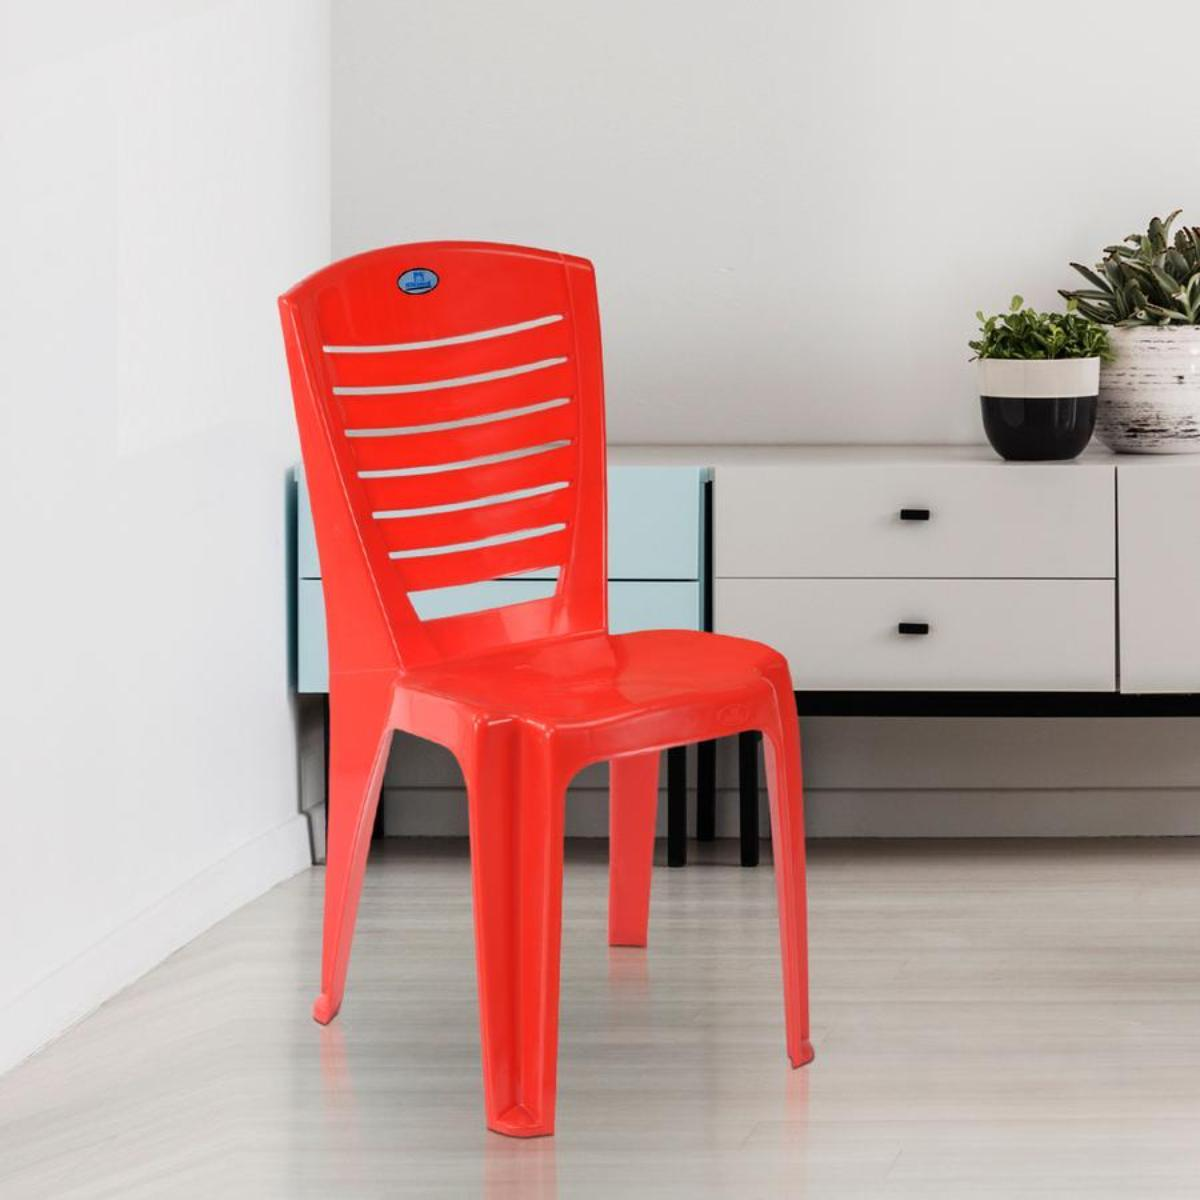Chair: (262, 237, 829, 1141)
